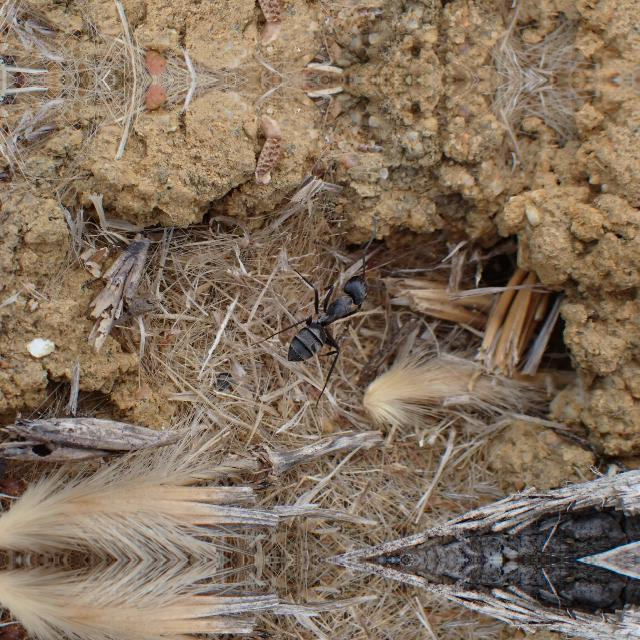Camponotus: (261, 258, 391, 379)
